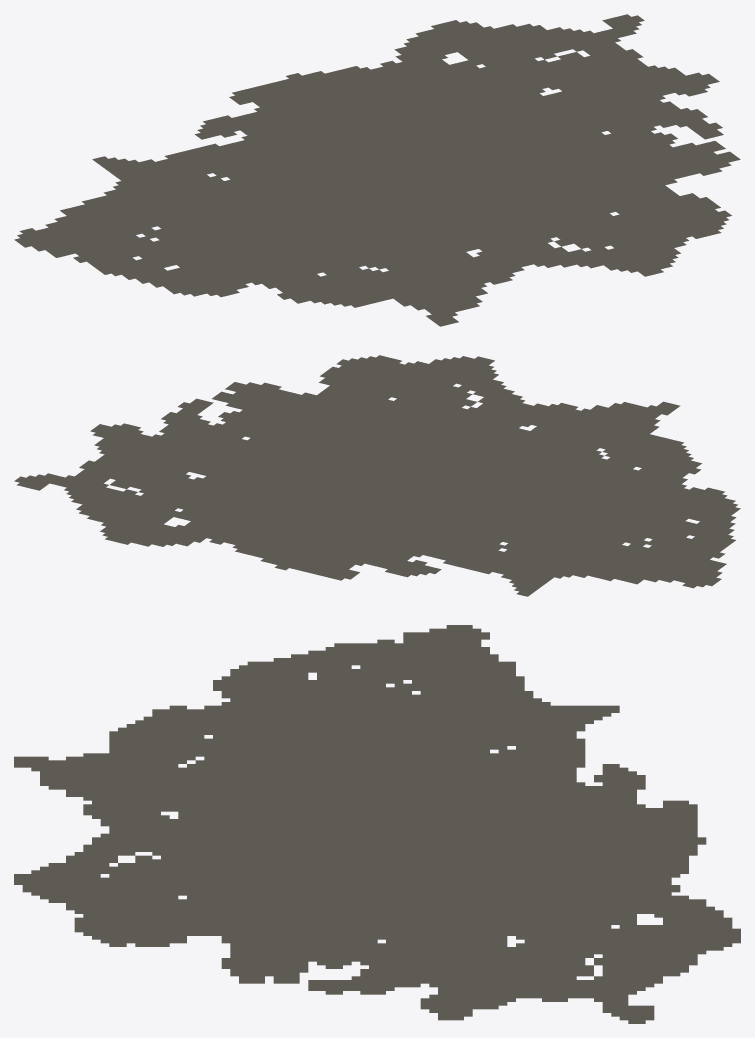
The model's file is Isl-rocky6-NoBuildArea.fbx.
3 renders of one model, top to bottom at view 1: azimuth 30°, elevation 25°; view 2: azimuth 150°, elevation 25°; view 3: azimuth 270°, elevation 25°, orthographic. The views are drawn at different scales.
Visible parts, largest first — view 1: Isl-rocky6-NoBuildArea; view 2: Isl-rocky6-NoBuildArea; view 3: Isl-rocky6-NoBuildArea.
Part boxes in pixels (x1,y1,x2,y2): Isl-rocky6-NoBuildArea: (14, 14, 740, 326); Isl-rocky6-NoBuildArea: (14, 355, 740, 596); Isl-rocky6-NoBuildArea: (14, 625, 740, 1023).
Bounding box in the file's own units: 109 × 0 × 84.
